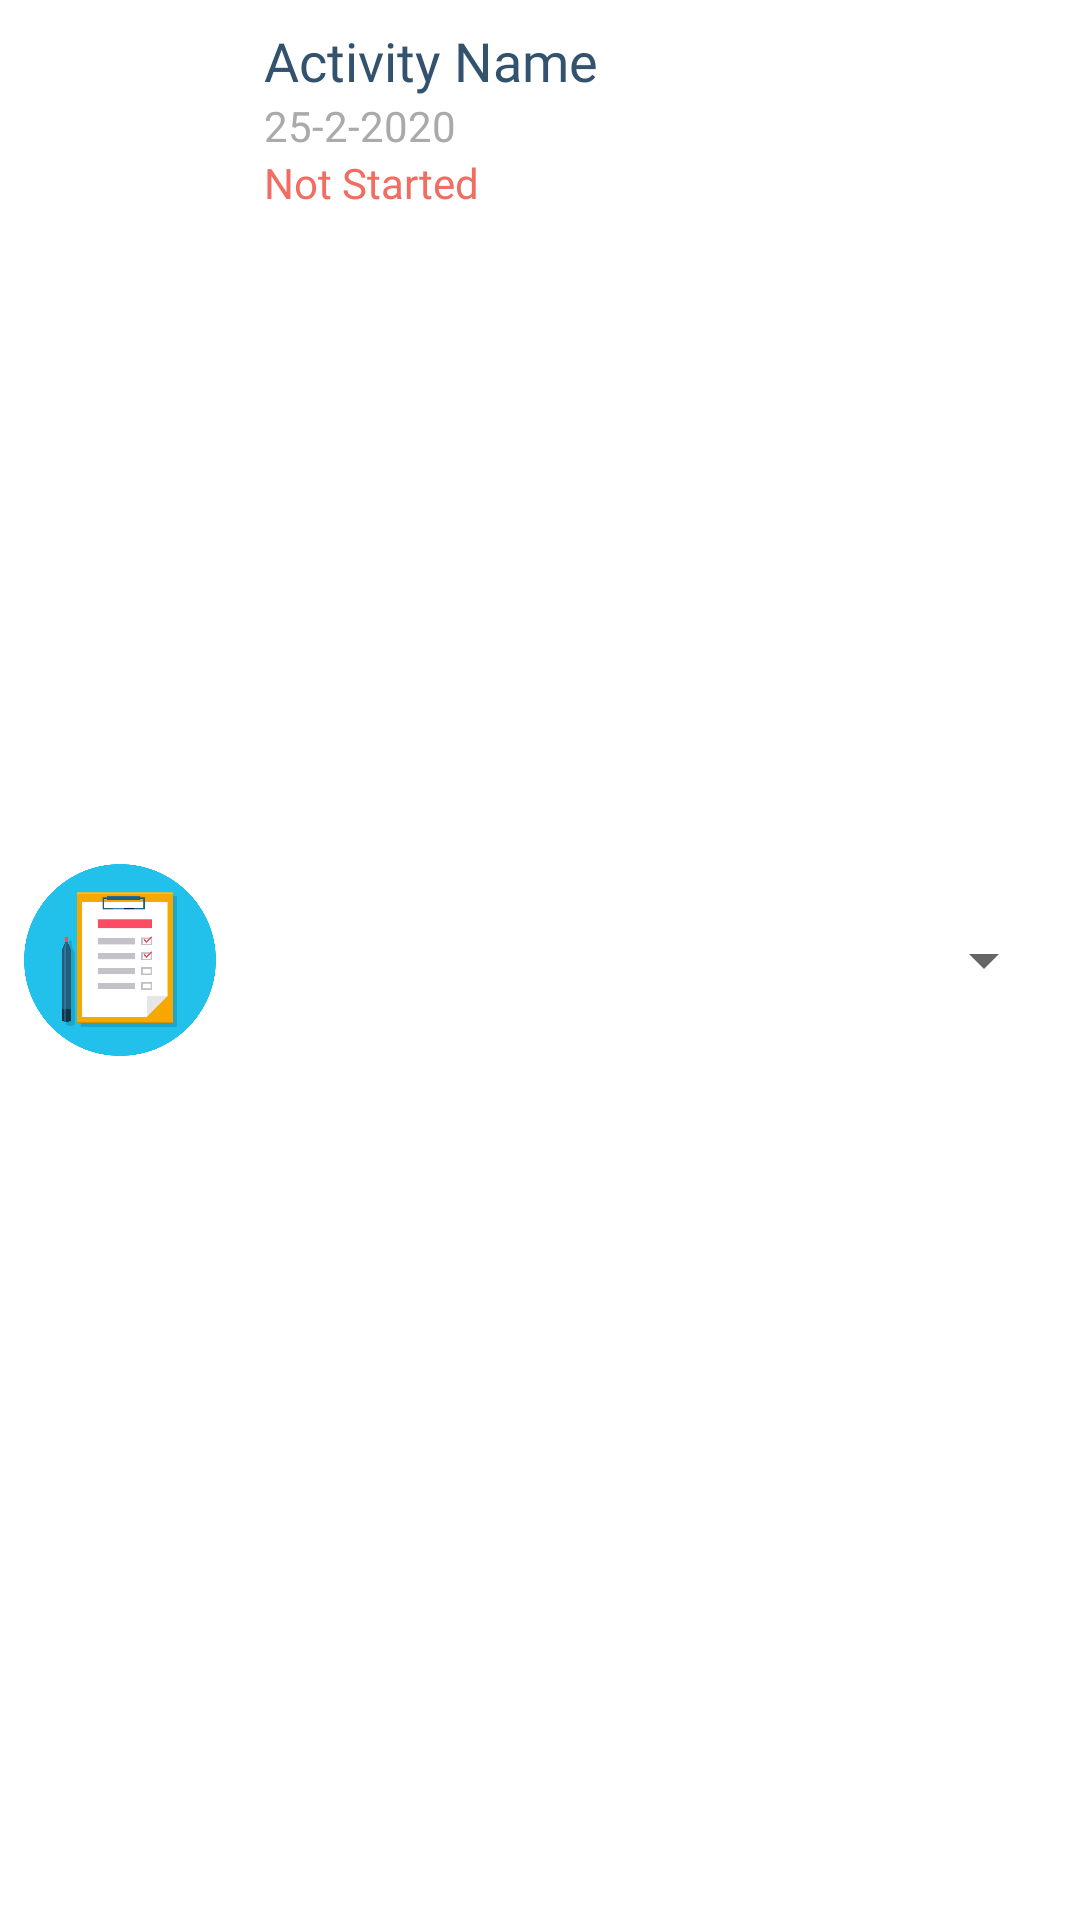

Icon bounding boxes for this 1080px x 1920px phone screenshot, format (x1, y1, x2, y2):
todo list: (24, 864, 216, 1056)
